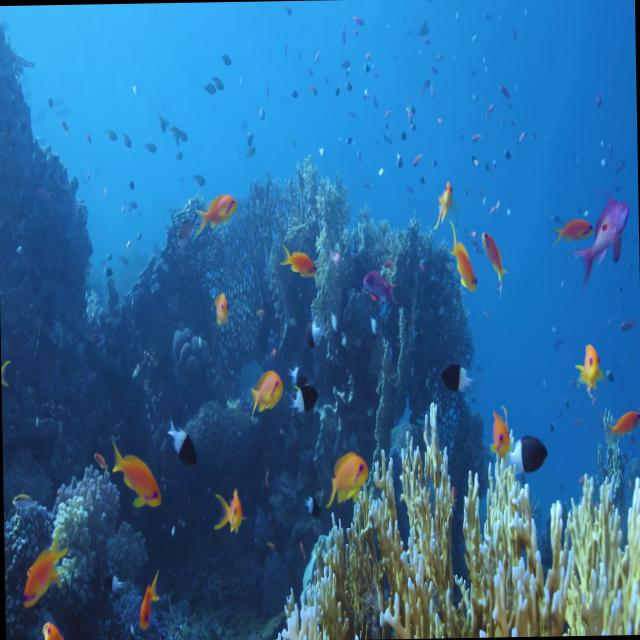fish: (572, 186, 636, 290), (106, 429, 167, 517), (17, 520, 76, 610), (326, 440, 376, 524), (568, 326, 610, 406), (202, 486, 252, 548), (268, 236, 330, 286), (132, 564, 171, 636), (189, 188, 238, 244), (243, 362, 281, 430), (161, 414, 201, 474), (481, 216, 510, 298), (433, 354, 482, 402), (502, 434, 548, 484), (448, 228, 482, 290), (554, 197, 596, 245), (429, 175, 458, 242), (200, 284, 240, 328), (601, 395, 640, 438), (489, 400, 520, 453), (292, 366, 324, 417), (37, 606, 68, 640), (304, 484, 322, 520)
